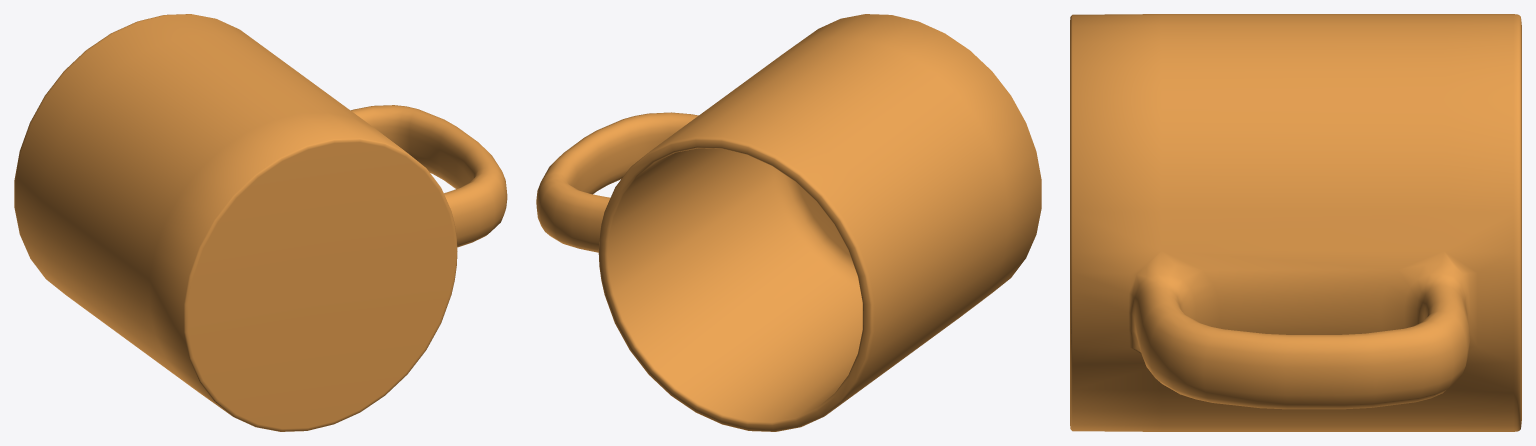
Rendered from mug.dae.
The picture shows the model from 3 angles, left to right: view 1: azimuth 30°, elevation 25°; view 2: azimuth 150°, elevation 25°; view 3: azimuth 270°, elevation 25°; orthographic projection. The views are drawn at different scales.
Visible parts, largest first — view 1: cup_lp; view 2: cup_lp; view 3: cup_lp.
Boxes of the visible parts, <box> form: cup_lp: <box>14,14,507,431</box>; cup_lp: <box>536,14,1041,431</box>; cup_lp: <box>1070,14,1521,431</box>.
Size of the model in its own units: 0.2464 by 0.1904 by 0.1756.
